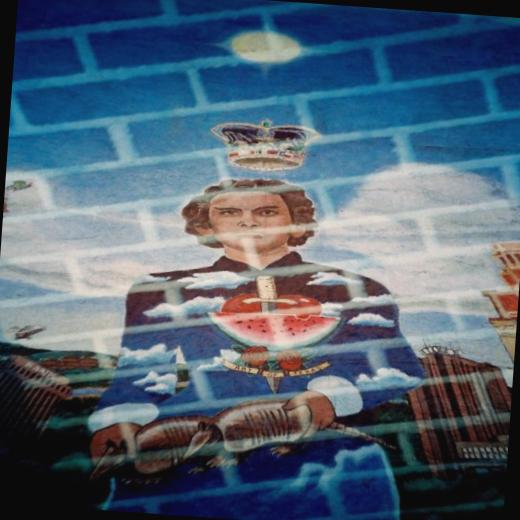Cherry: (207, 308, 345, 358)
